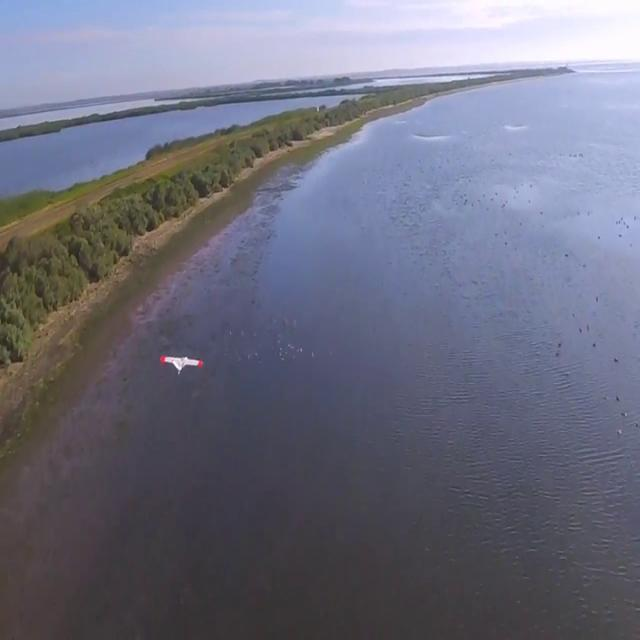iha: (158, 351, 206, 379)
